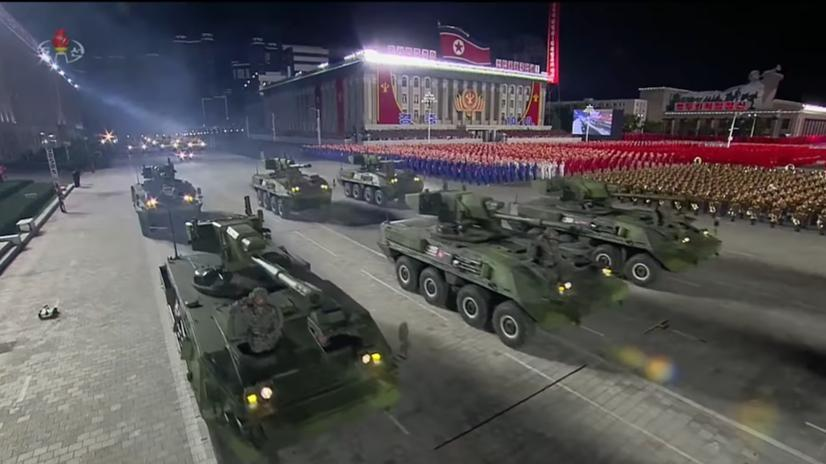MIL_IFV: (160, 197, 411, 453), (381, 189, 630, 349), (520, 198, 723, 285), (248, 150, 335, 214), (130, 160, 205, 232), (337, 153, 423, 206)
